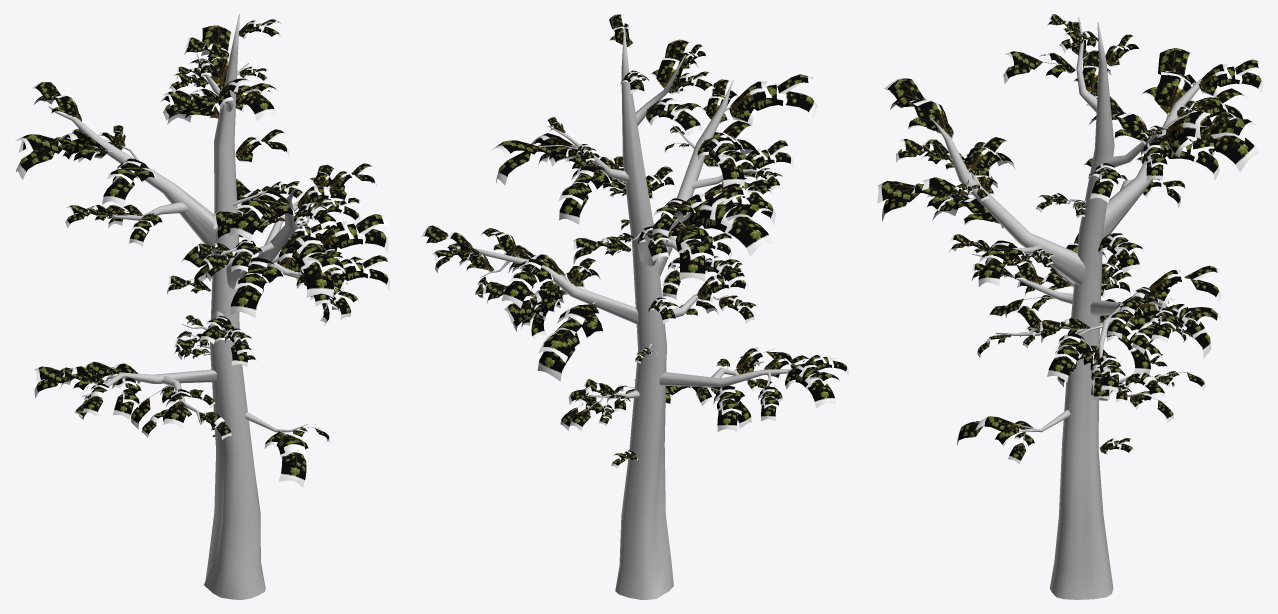
The model's file is Tree 4.FBX.
3 views of the same model, side by side, from view 1: azimuth 30°, elevation 25°; view 2: azimuth 150°, elevation 25°; view 3: azimuth 270°, elevation 25° (orthographic). The views are drawn at different scales.
Visible parts, largest first — view 1: Trunk; view 2: Trunk; view 3: Trunk.
Part boxes in pixels (<box>): Trunk: <box>15,14,392,599</box>; Trunk: <box>421,14,848,599</box>; Trunk: <box>877,14,1263,599</box>.
Size of the model in its own units: 113 by 98.84 by 162.
